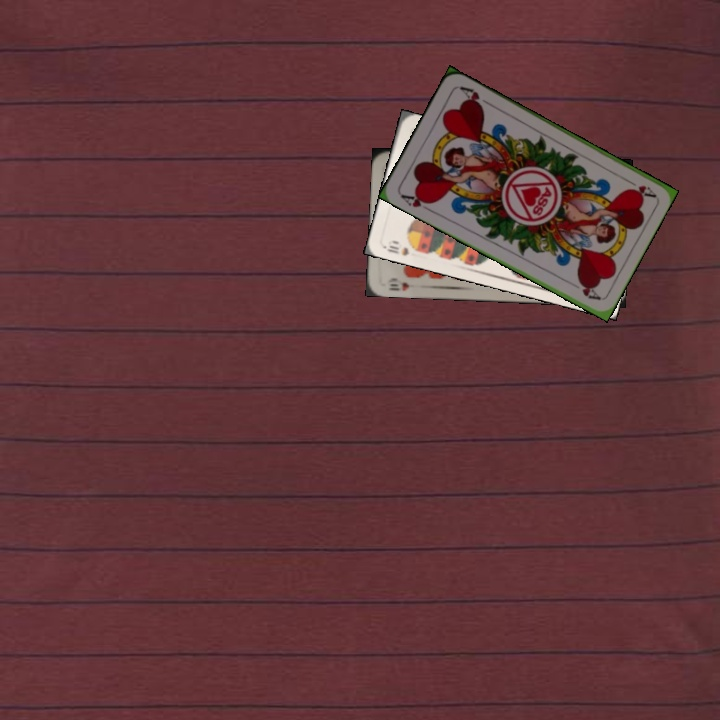H10: (384, 274, 412, 293)
HA: (397, 189, 436, 214), (620, 174, 657, 200)
S10: (381, 236, 422, 258)
